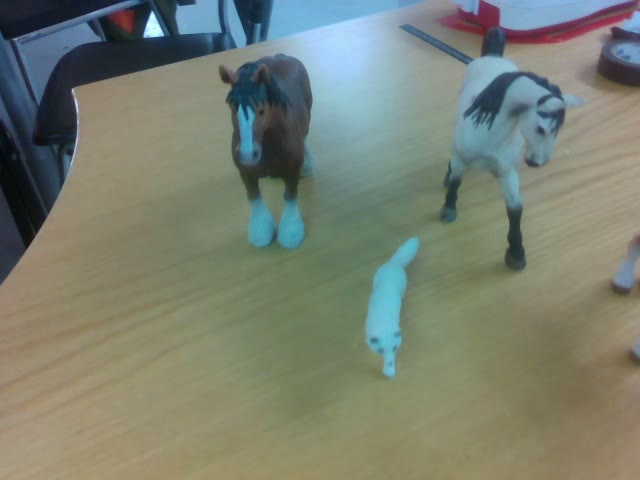toy: (439, 28, 580, 270), (218, 54, 314, 248), (364, 237, 420, 379)
